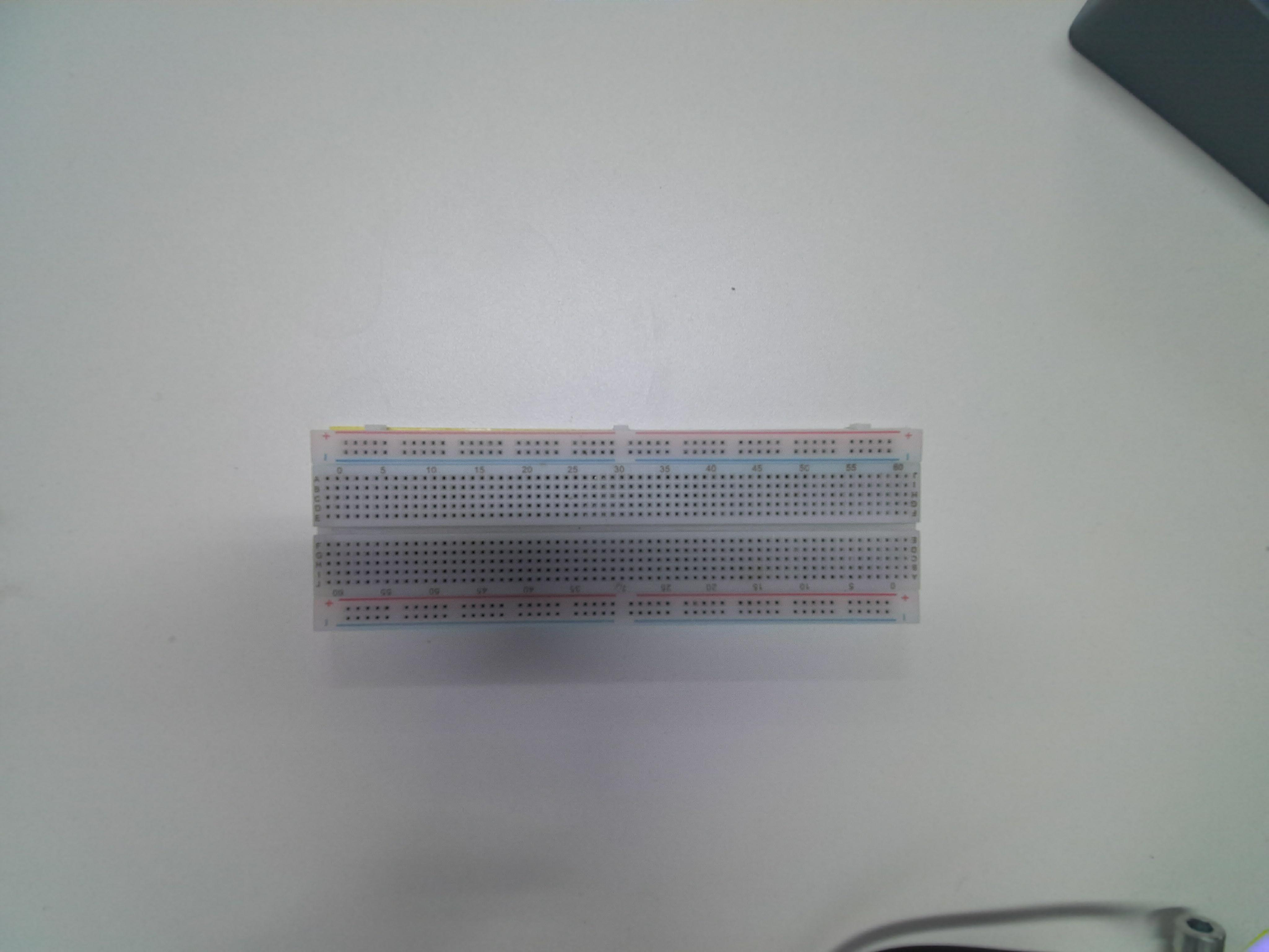base: (307, 425, 924, 631)
